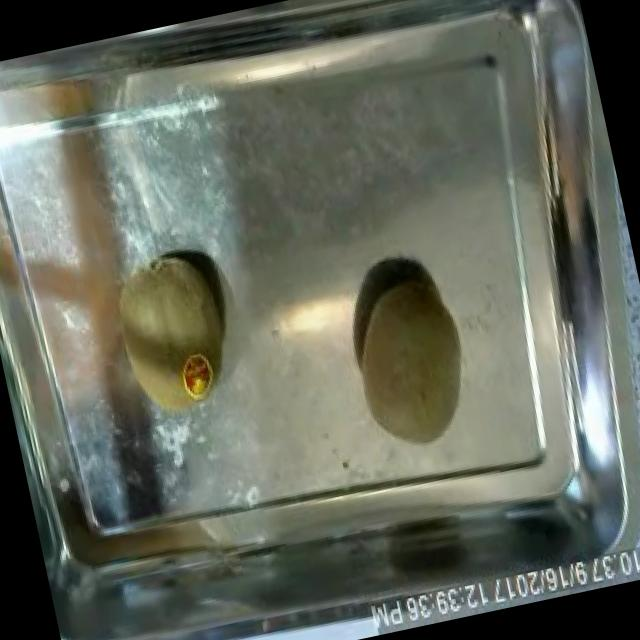Fruit: (332, 256, 490, 462), (94, 232, 250, 430)
